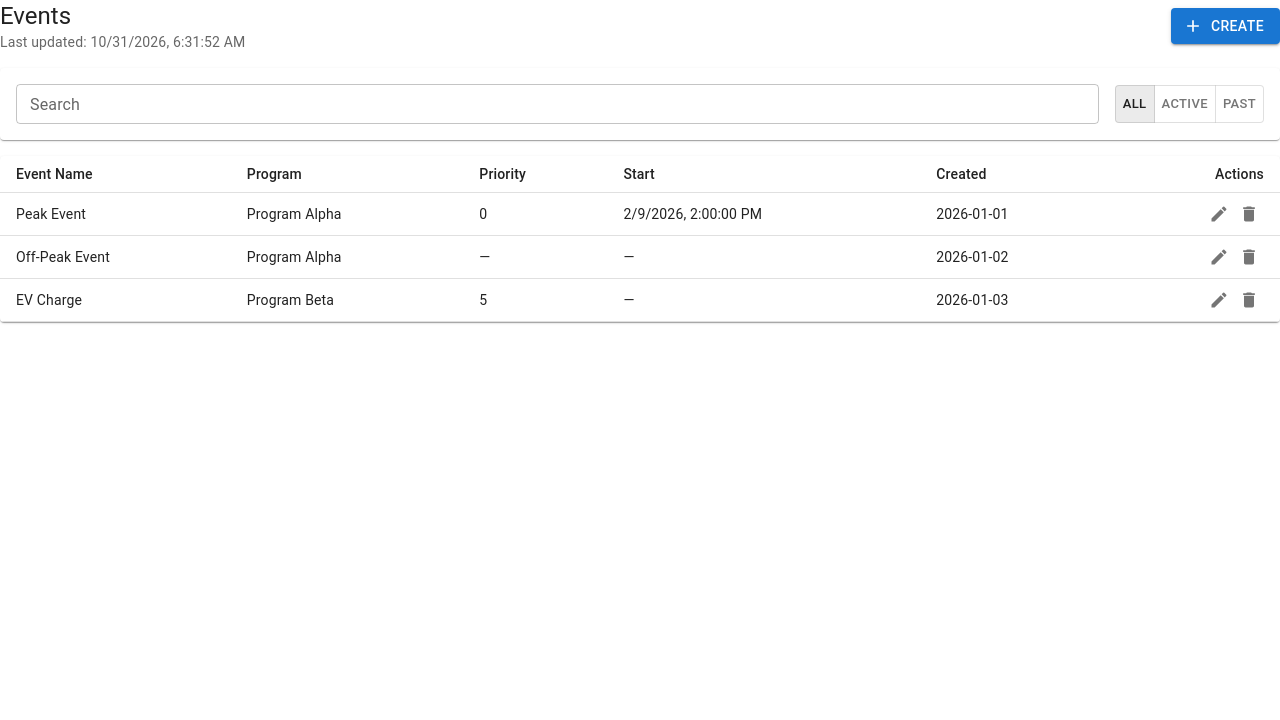
Test: EventsPage › opens create event dialog
Click the button with test id "create-event-btn" at (1225, 26), box top-left (1171, 8), bottom-right (1279, 44)
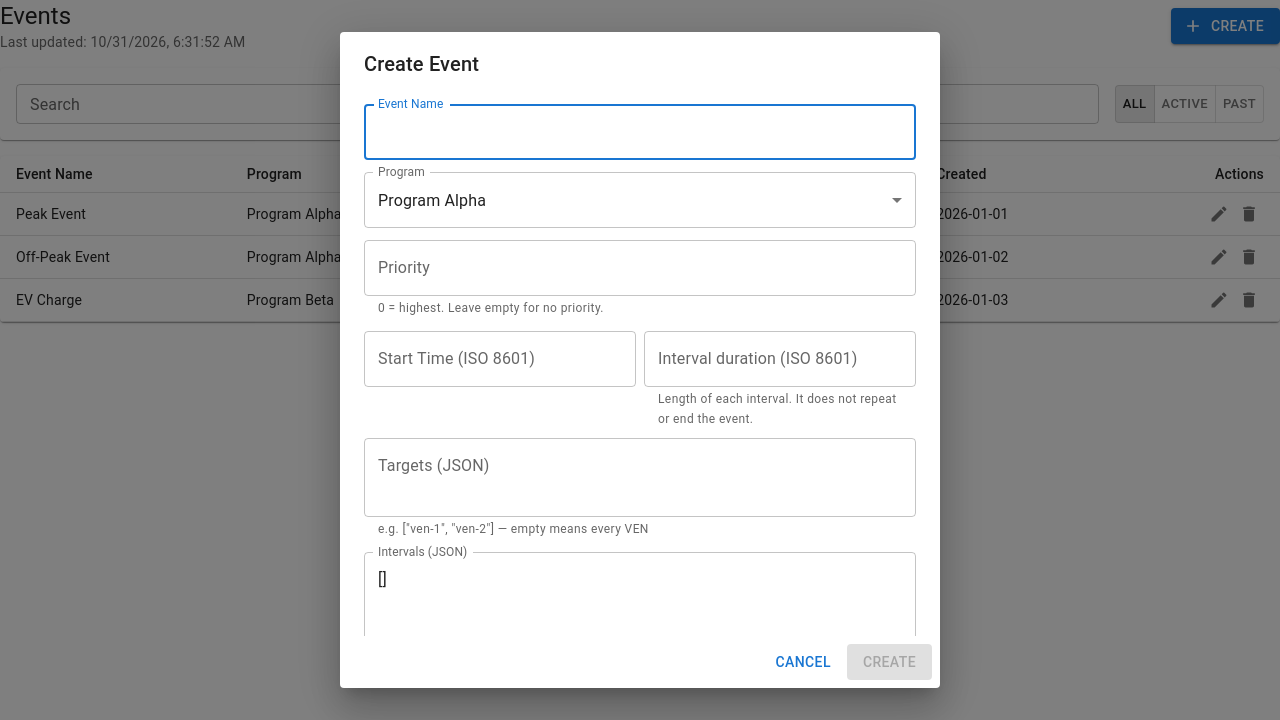
Result: the element with test id "event-form-dialog" is shown
